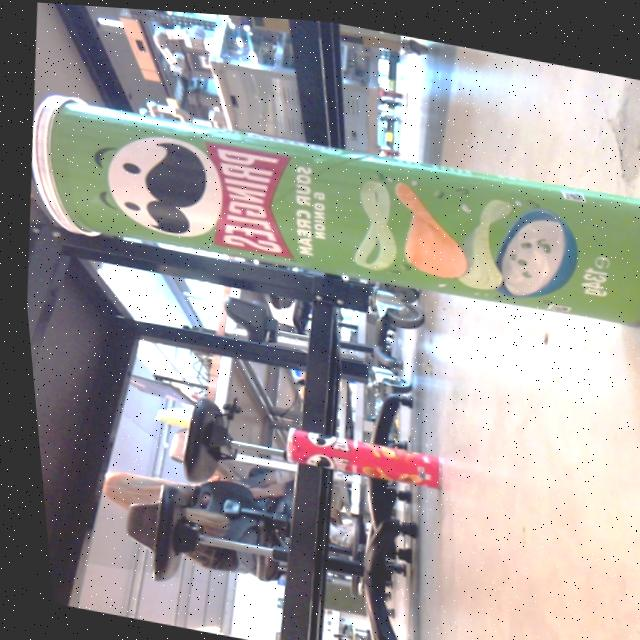greenpringles: (13, 73, 640, 346)
redpringles: (259, 412, 444, 492)
